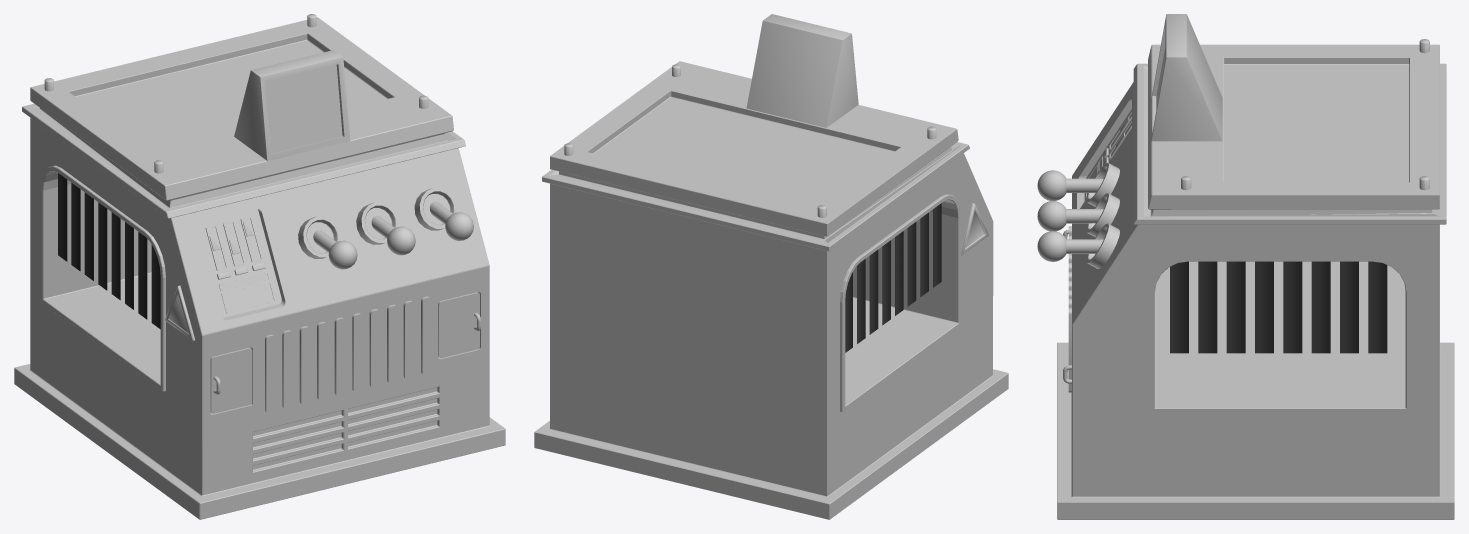
The model's file is Machine_v4_1.fbx.
The picture shows the model from 3 angles, left to right: view 1: azimuth 30°, elevation 25°; view 2: azimuth 150°, elevation 25°; view 3: azimuth 270°, elevation 25°; orthographic projection. The views are drawn at different scales.
Visible parts, largest first — view 1: Machn_v4_1, Monitor_Machn_v4, Plane_1.001, Stick_2, Stick_1, Stick_3; view 2: Machn_v4_1, Monitor_Machn_v4, Plane_1.001; view 3: Machn_v4_1, Plane_2.001, Monitor_Machn_v4, Stick_1, Stick_3, Stick_2.
Boxes of the visible parts, x1,y1,x2,y2 form: Machn_v4_1: (14, 14, 505, 519); Monitor_Machn_v4: (234, 50, 350, 161); Plane_1.001: (58, 173, 160, 329); Stick_2: (371, 216, 415, 255); Stick_1: (313, 230, 357, 269); Stick_3: (430, 201, 473, 240); Machn_v4_1: (534, 61, 1008, 519); Monitor_Machn_v4: (746, 14, 858, 127); Plane_1.001: (845, 203, 941, 352); Machn_v4_1: (1057, 39, 1454, 519); Plane_2.001: (1170, 261, 1387, 353); Monitor_Machn_v4: (1151, 14, 1222, 141); Stick_1: (1037, 170, 1103, 200); Stick_3: (1037, 231, 1103, 261); Stick_2: (1037, 201, 1103, 231).
Size of the model in its own units: 263 by 311 by 290.
